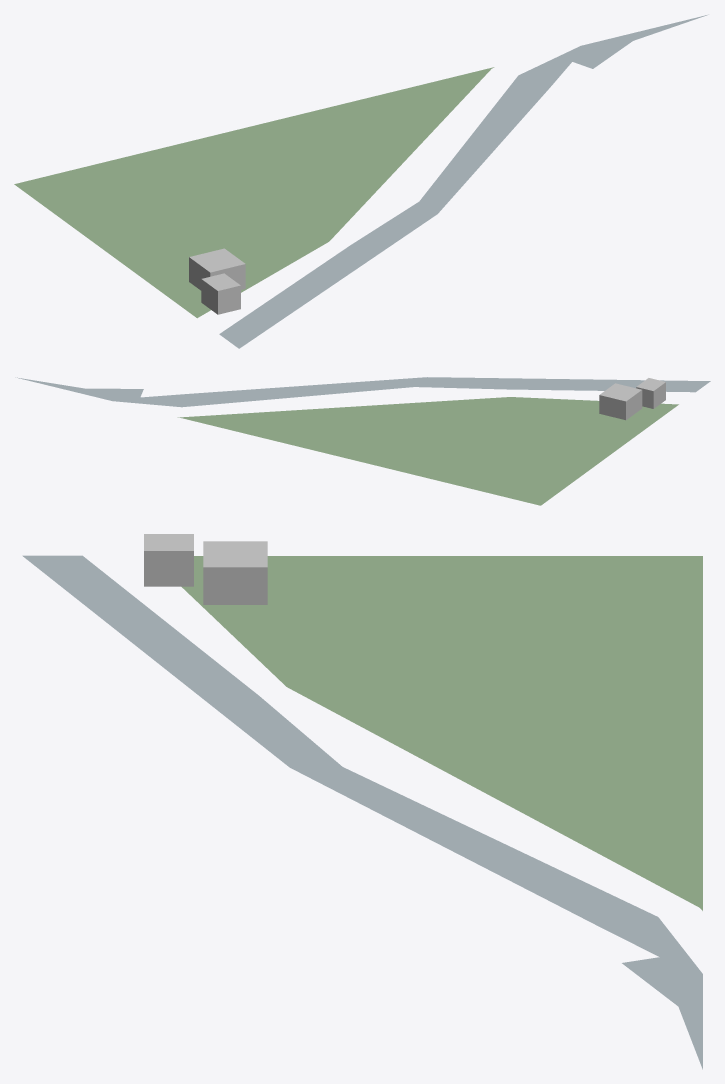
File: 113_117_mid.glb
3 views of the same model, one above another, from view 1: azimuth 30°, elevation 25°; view 2: azimuth 150°, elevation 25°; view 3: azimuth 270°, elevation 25° (orthographic). The views are drawn at different scales.
Size of the model in its own units: 446 by 15.28 by 250.
